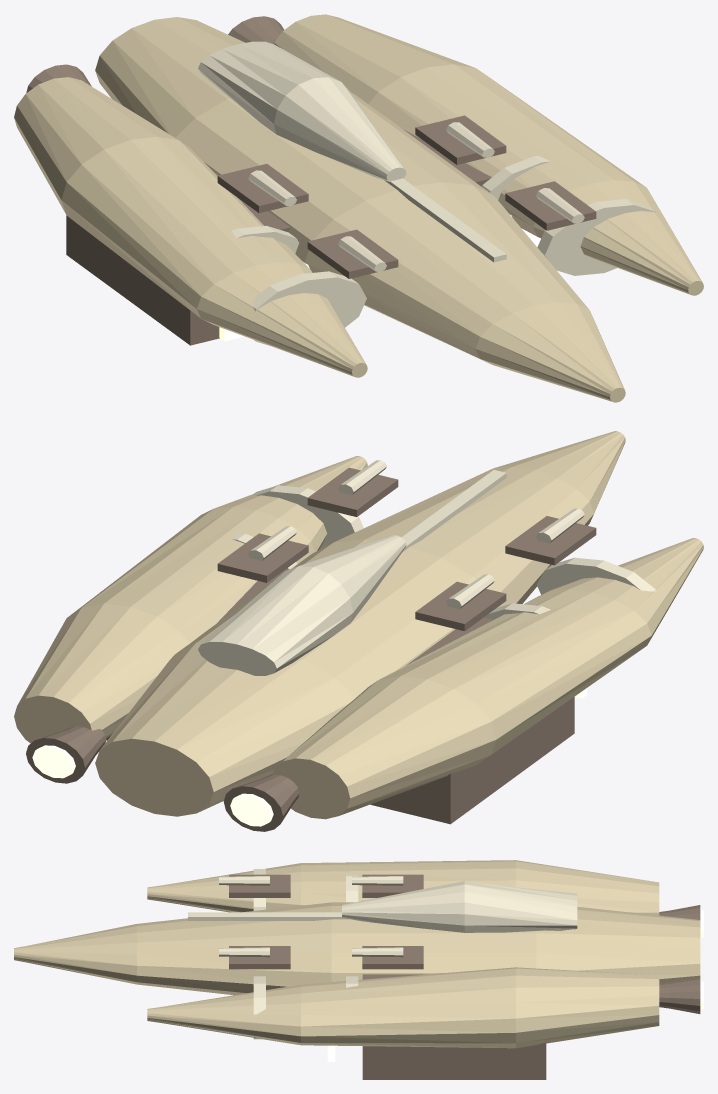
The picture shows the model from 3 angles, top to bottom: view 1: azimuth 30°, elevation 25°; view 2: azimuth 150°, elevation 25°; view 3: azimuth 270°, elevation 25°; orthographic projection. The views are drawn at different scales.
Bounding box in the file's own units: 10.16 × 3.63 × 18.02.
